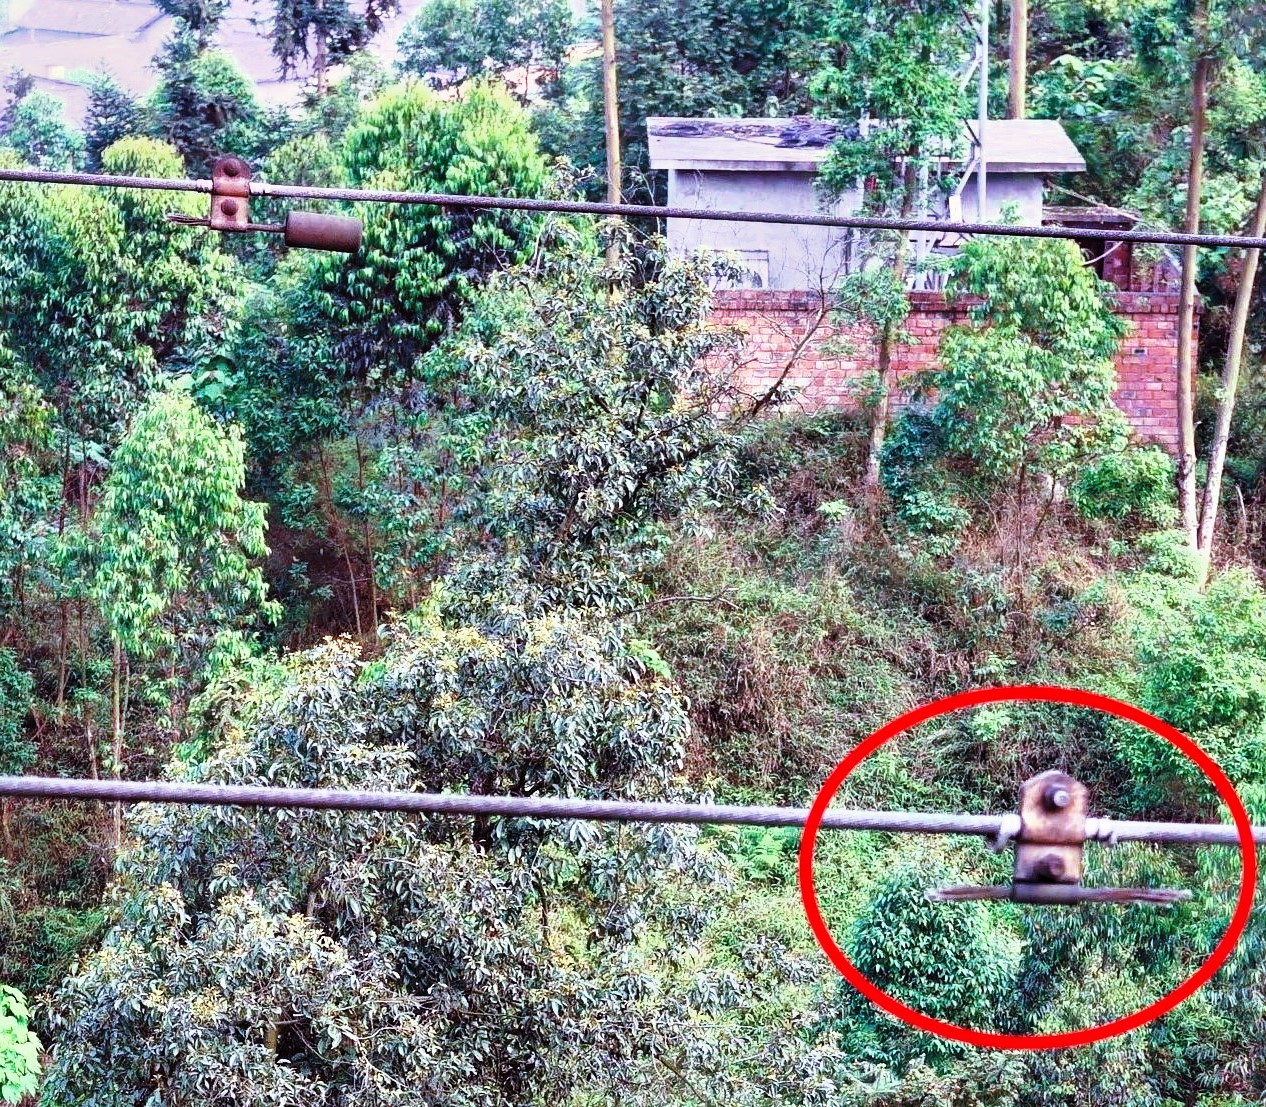Damage of shockproof hammer: (912, 758, 1215, 919), (153, 143, 389, 267)
